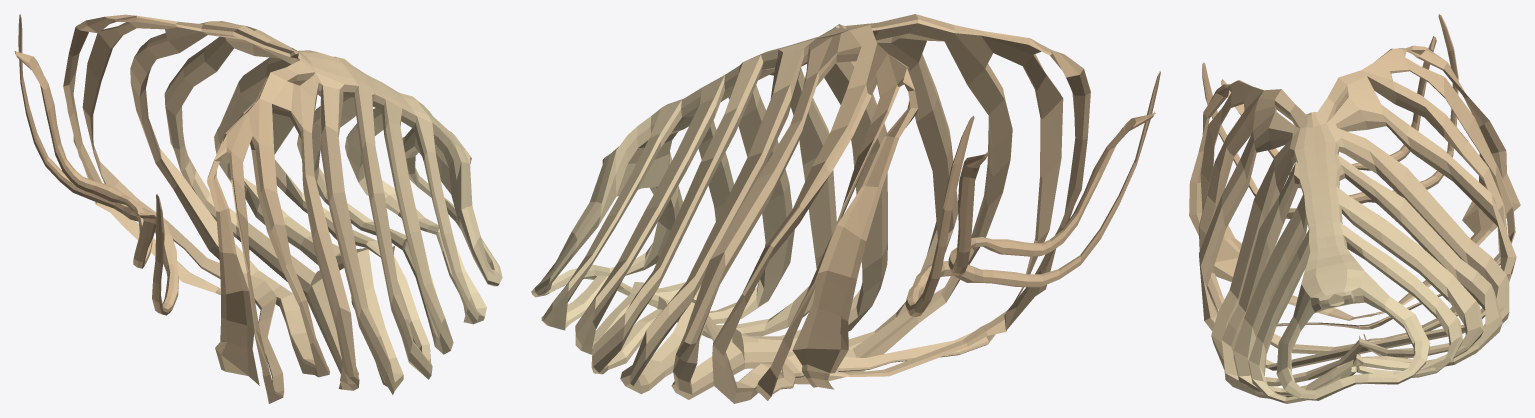
Rendered from ribcage.fbx.
3 renders of one model, left to right at view 1: azimuth 30°, elevation 25°; view 2: azimuth 150°, elevation 25°; view 3: azimuth 270°, elevation 25°, orthographic. The views are drawn at different scales.
Parts seen in each view (by area): view 1: RibCage; view 2: RibCage; view 3: RibCage.
Boxes of the visible parts, bbox=[...] form: RibCage: bbox=[14, 14, 502, 403]; RibCage: bbox=[531, 14, 1160, 403]; RibCage: bbox=[1189, 14, 1520, 403].
Size of the model in its own units: 35.87 by 28.1 by 30.7.
